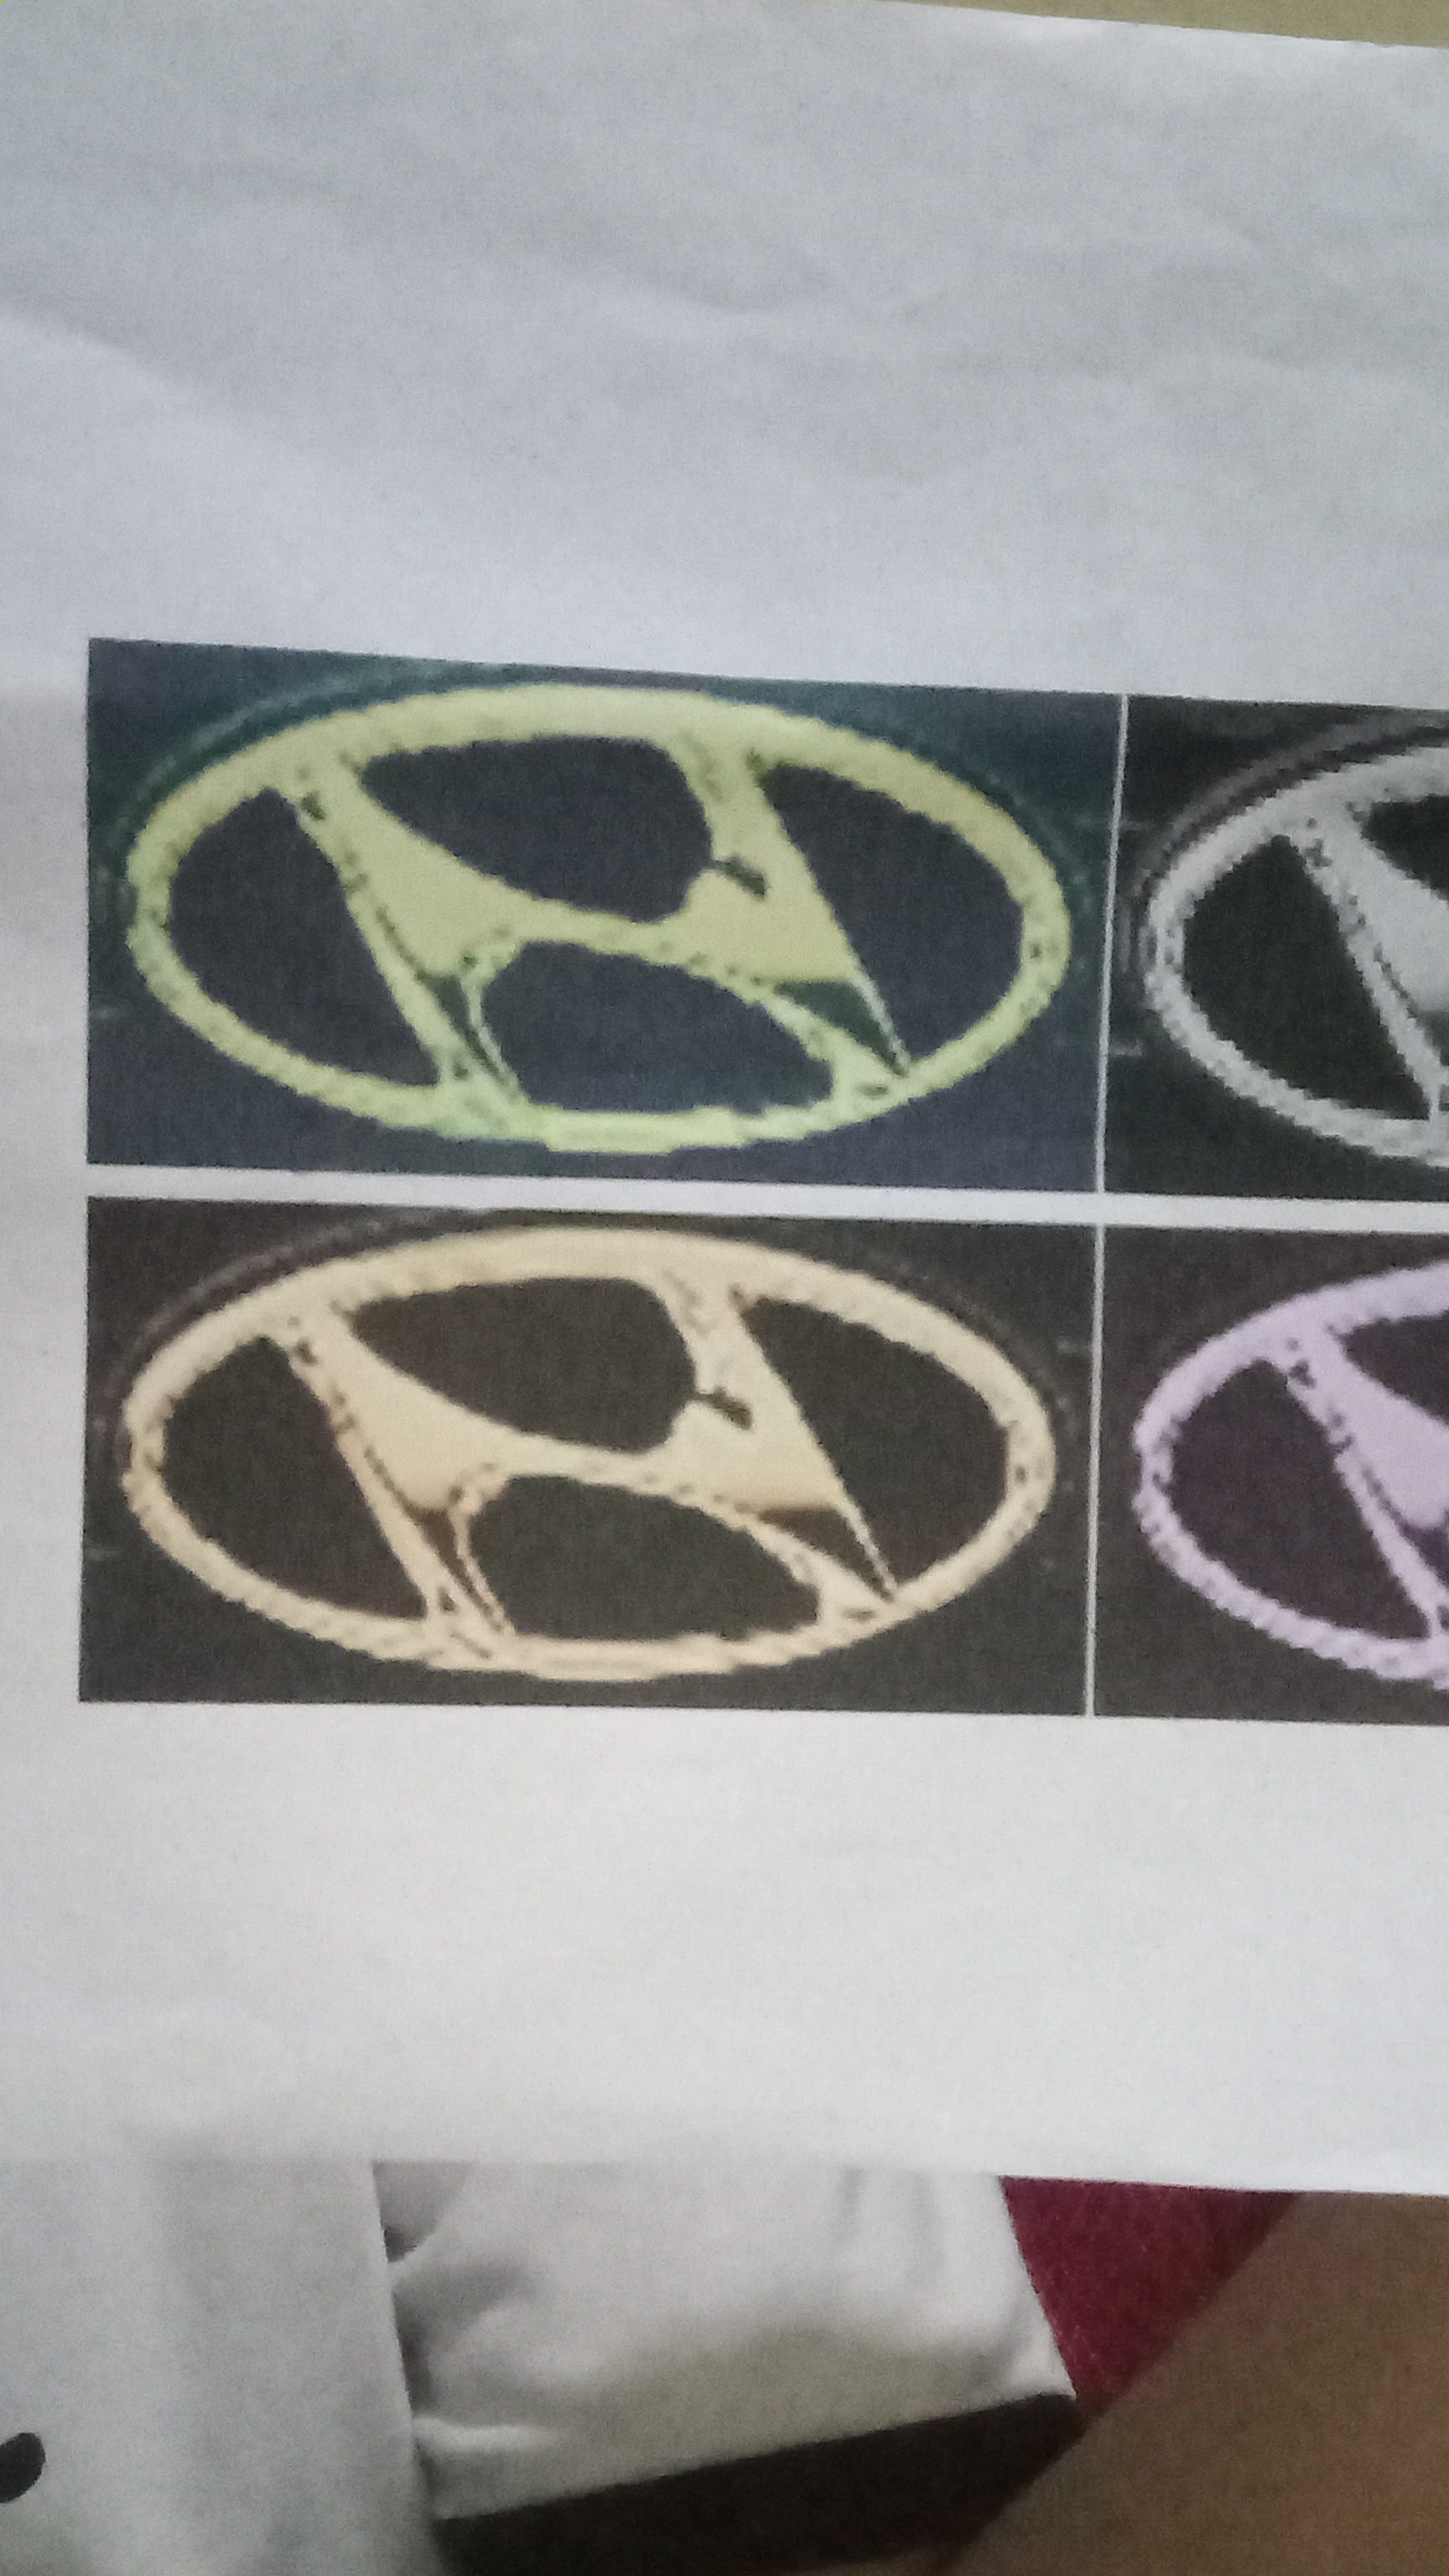Hyundai: (81, 640, 1095, 1180), (78, 1192, 1069, 1720)
